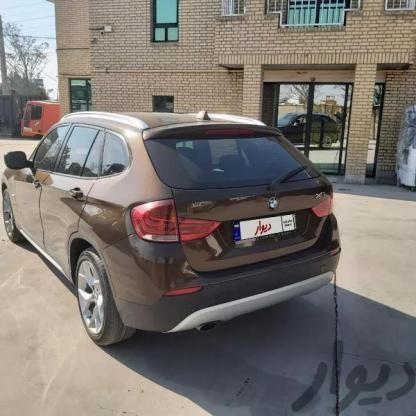Car: (0, 113, 334, 349)
